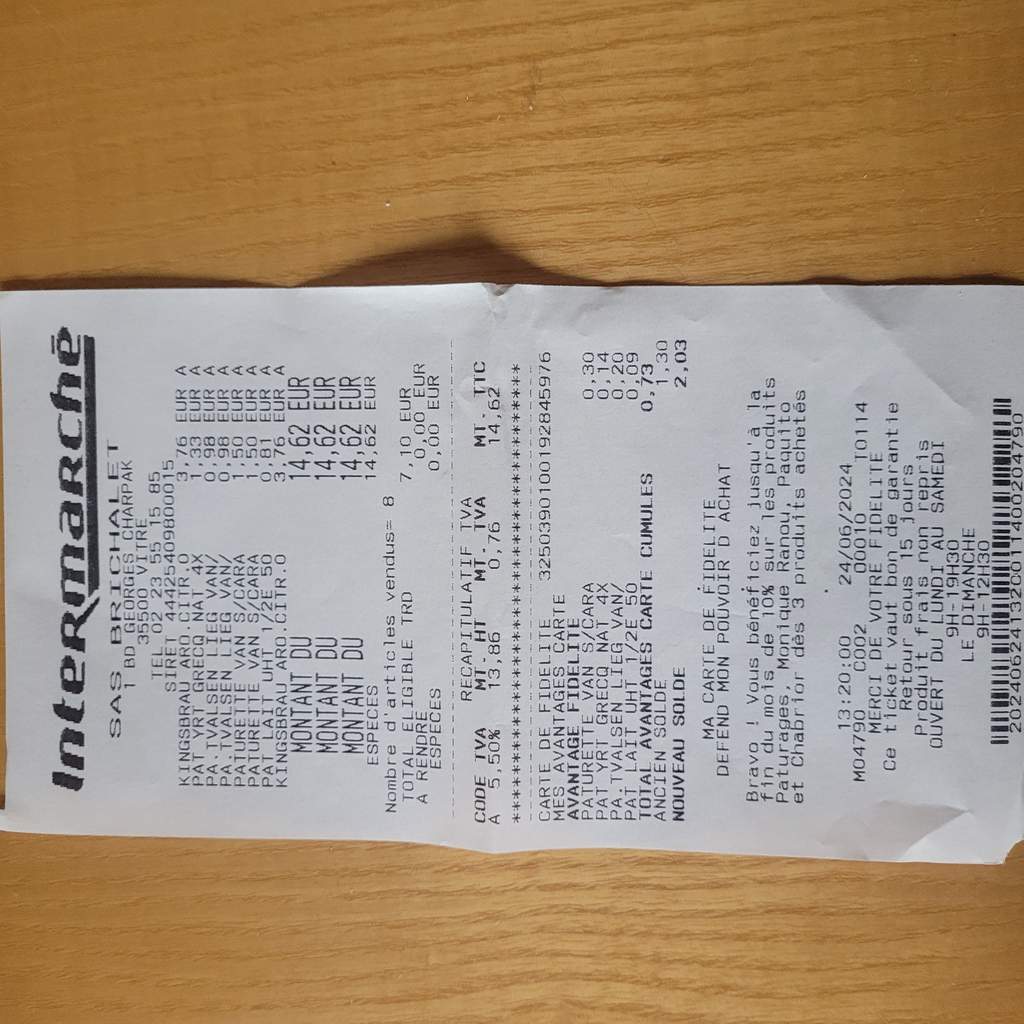recipt: (2, 285, 1024, 865)
